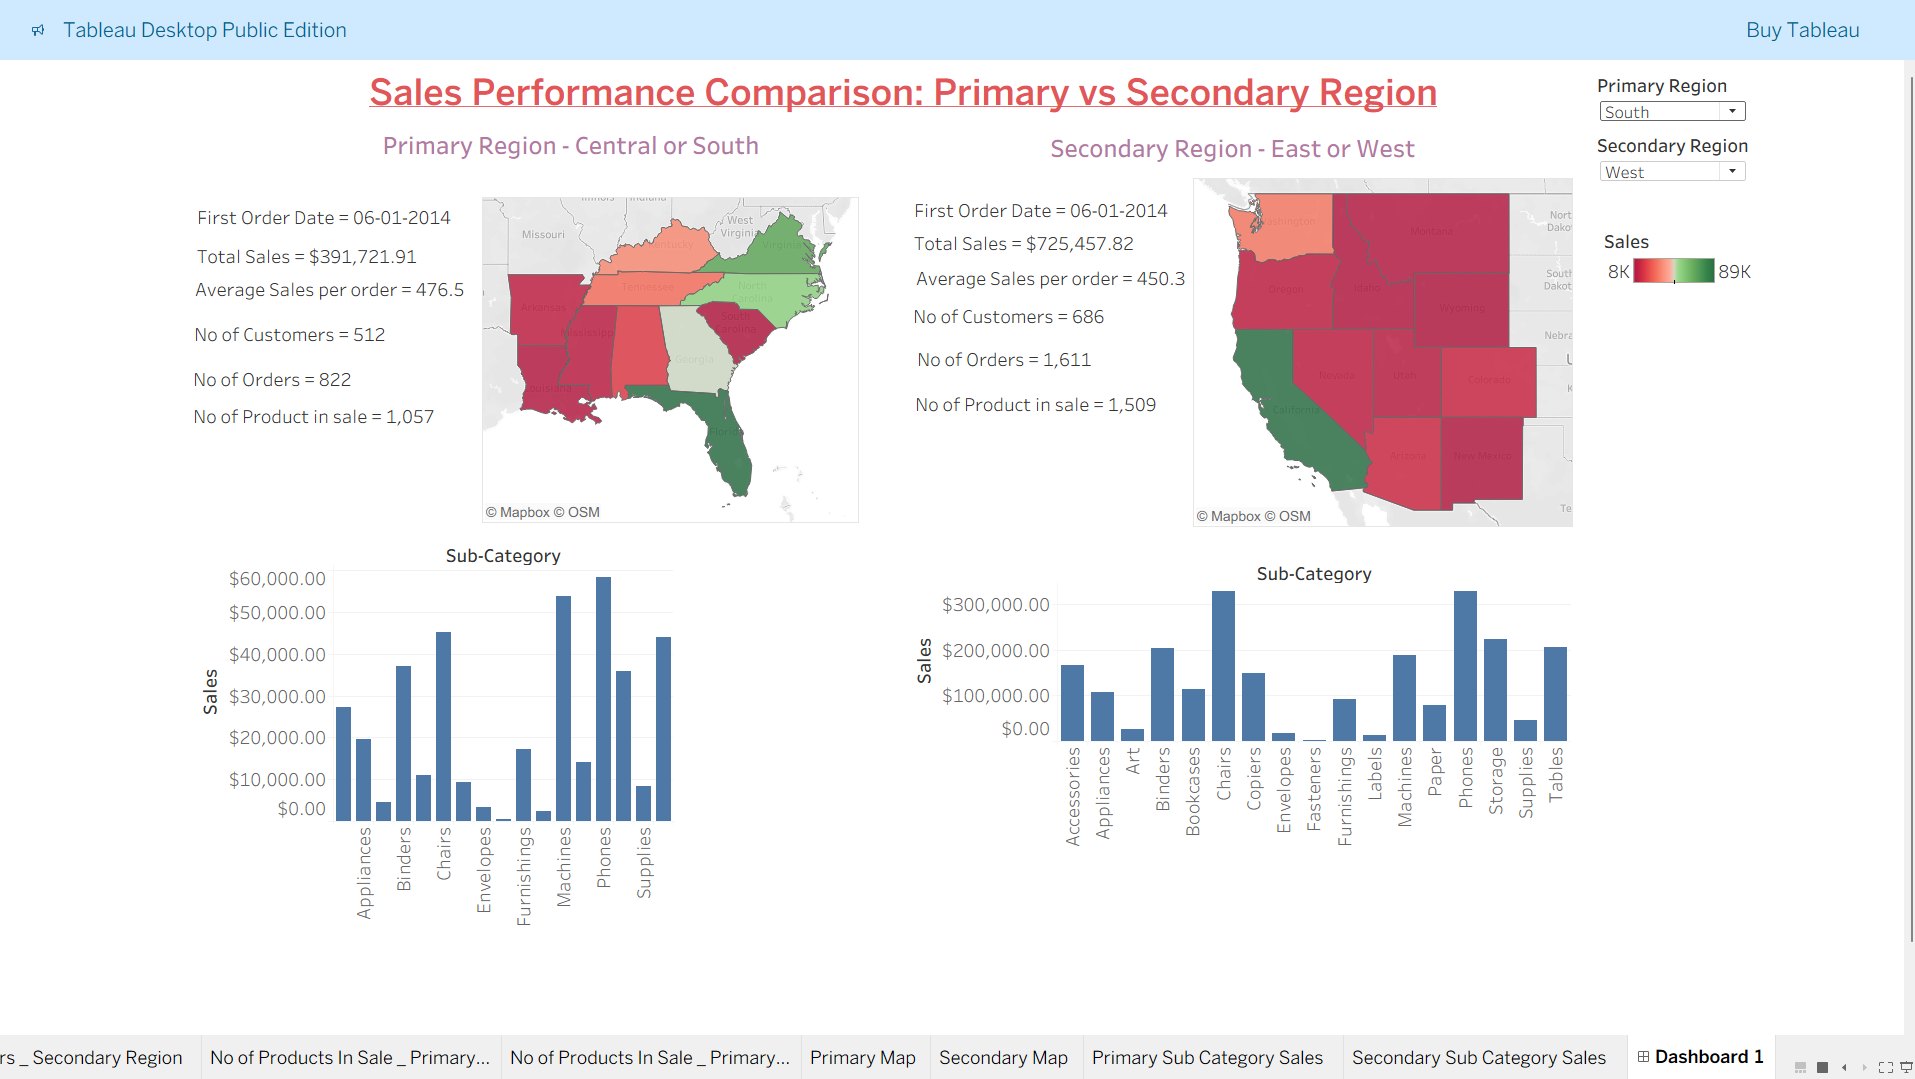

What the dashboard file says about the page in this screenshot:
{"tool":"tableau","page":{"name":"Dashboard 1","canvas":[1620,1060],"ordinal":0},"visuals":[{"type":"text","box":[10,2,1505,63]},{"type":"parameter","param":"[Parameters].[Parameter 1]","box":[1452,8,160,60]},{"type":"text","box":[158,67,544,35]},{"type":"parameter","param":"[Parameters].[Parameter 2]","box":[1452,68,160,60]},{"type":"text","box":[898,71,388,33]},{"type":"worksheet","title":"Secondary Map","mark":"Automatic","box":[1052,118,380,349]},{"type":"worksheet","title":"Primary Map","mark":"Automatic","box":[341,137,377,326]},{"type":"worksheet","title":"First Order Date_ Secondary rebgion","mark":"Automatic","box":[769,138,269,41]},{"type":"worksheet","title":"First Order Date_ Primary Region","mark":"Automatic","box":[52,145,528,28]},{"type":"legend","title":"Primary Map","param":"[federated.0djb2t70up64ai174piue1b4u4np].[sum:Sales:qk]","box":[1463,168,152,82]},{"type":"worksheet","title":"Total sales_ Secondary Region","mark":"Automatic","box":[769,171,270,43]},{"type":"worksheet","title":"Total sales_ Primary region","mark":"Automatic","box":[52,184,483,37]},{"type":"worksheet","title":"Average sales per order - Secondary Region","mark":"Automatic","box":[771,206,301,41]},{"type":"worksheet","title":"Average sales per order - Primary Region","mark":"Automatic","box":[50,217,283,43]},{"type":"worksheet","title":"No of Customers _ Secondary Region","mark":"Automatic","box":[768,244,232,40]},{"type":"worksheet","title":"No of Customers _ Primary Region","mark":"Automatic","box":[49,262,483,41]},{"type":"worksheet","title":"No of Orders _ Secondary Region","mark":"Automatic","box":[772,287,225,39]},{"type":"worksheet","title":"No of Orders _ Primary Region","mark":"Automatic","box":[48,307,324,35]},{"type":"worksheet","title":"No of Products In Sale _ Primary Region (2)","mark":"Automatic","box":[770,332,268,38]},{"type":"worksheet","title":"No of Products In Sale _ Primary Region","mark":"Automatic","box":[48,344,278,47]},{"type":"worksheet","title":"Primary Sub Category Sales","mark":"Automatic","rows":["Sales"],"cols":["Sub-Category"],"box":[49,485,671,422]},{"type":"worksheet","title":"Secondary Sub Category Sales","mark":"Automatic","rows":["Sales"],"cols":["Sub-Category"],"box":[763,503,667,298]}]}

Visuals, with their boxes on the page's 1620x1060 design canvas (x1, y1, x2, y2). These are canvas units, not pixel positions in the 1915x1079 screenshot, which may show the page scaled, cropped or inside an application window:
text: region(10, 2, 1515, 65)
parameter: region(1452, 8, 1612, 68)
text: region(158, 67, 702, 102)
parameter: region(1452, 68, 1612, 128)
text: region(898, 71, 1286, 104)
"Secondary Map" worksheet: region(1052, 118, 1432, 467)
"Primary Map" worksheet: region(341, 137, 718, 463)
"First Order Date_ Secondary rebgion" worksheet: region(769, 138, 1038, 179)
"First Order Date_ Primary Region" worksheet: region(52, 145, 580, 173)
"Primary Map" legend: region(1463, 168, 1615, 250)
"Total sales_ Secondary Region" worksheet: region(769, 171, 1039, 214)
"Total sales_ Primary region" worksheet: region(52, 184, 535, 221)
"Average sales per order - Secondary Region" worksheet: region(771, 206, 1072, 247)
"Average sales per order - Primary Region" worksheet: region(50, 217, 333, 260)
"No of Customers _ Secondary Region" worksheet: region(768, 244, 1000, 284)
"No of Customers _ Primary Region" worksheet: region(49, 262, 532, 303)
"No of Orders _ Secondary Region" worksheet: region(772, 287, 997, 326)
"No of Orders _ Primary Region" worksheet: region(48, 307, 372, 342)
"No of Products In Sale _ Primary Region (2)" worksheet: region(770, 332, 1038, 370)
"No of Products In Sale _ Primary Region" worksheet: region(48, 344, 326, 391)
"Primary Sub Category Sales" worksheet: region(49, 485, 720, 907)
"Secondary Sub Category Sales" worksheet: region(763, 503, 1430, 801)
